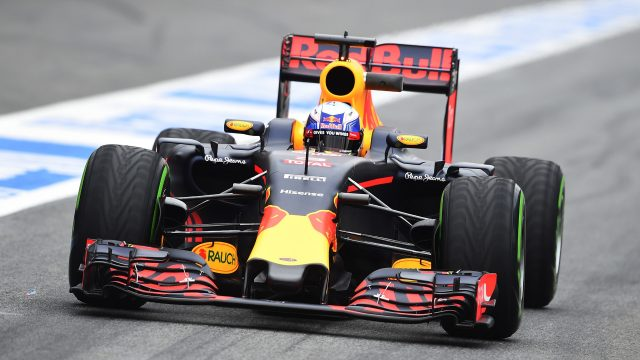f1_car: (57, 25, 572, 351)
